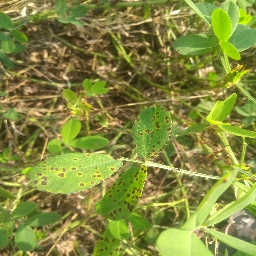GroundNut_Leaf: (23, 150, 112, 188), (103, 167, 148, 219), (132, 104, 172, 161), (171, 33, 214, 57), (207, 93, 239, 123), (214, 8, 234, 42), (15, 225, 37, 255), (60, 115, 79, 144), (82, 77, 108, 98), (11, 201, 39, 218)
